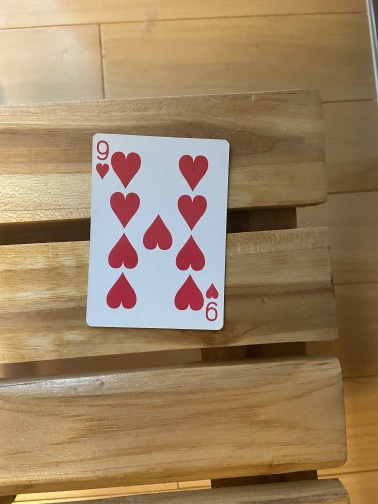nine: (85, 132, 231, 331)
